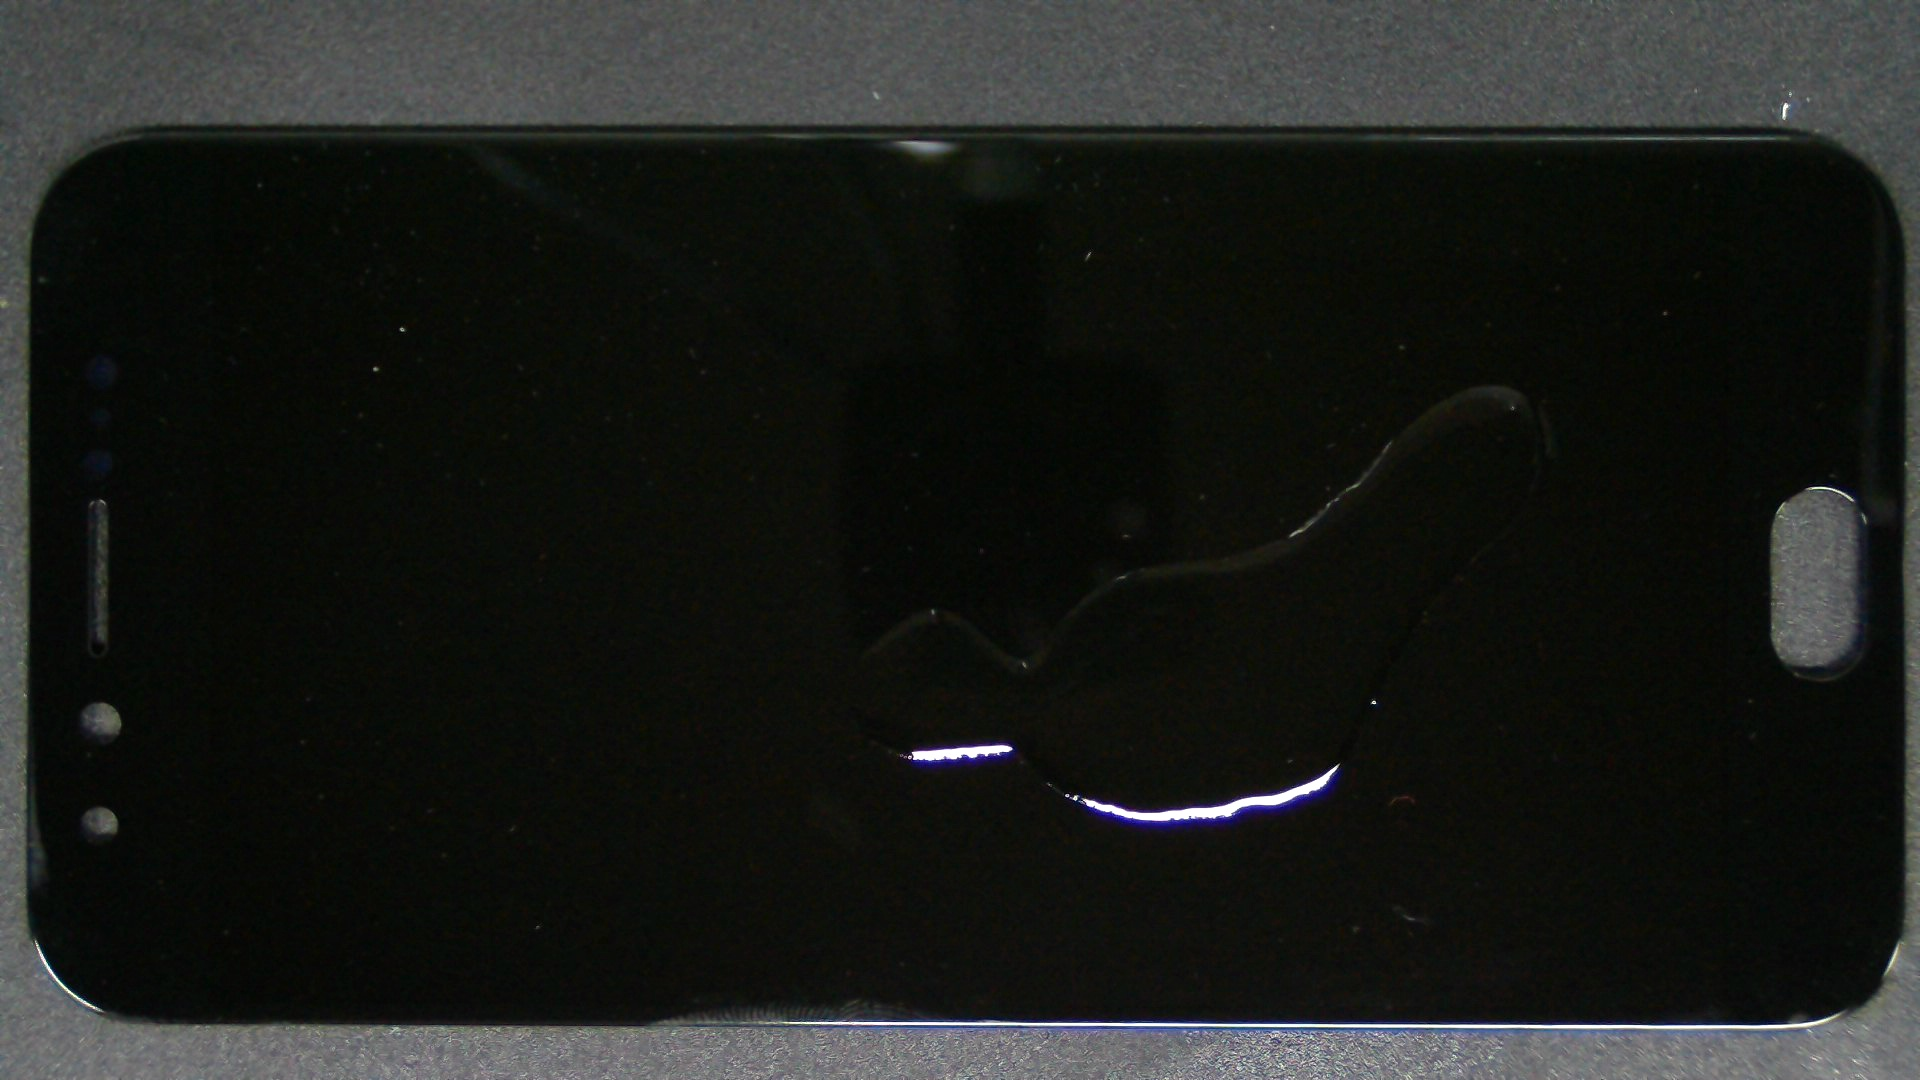oil: (744, 193, 1920, 582)
